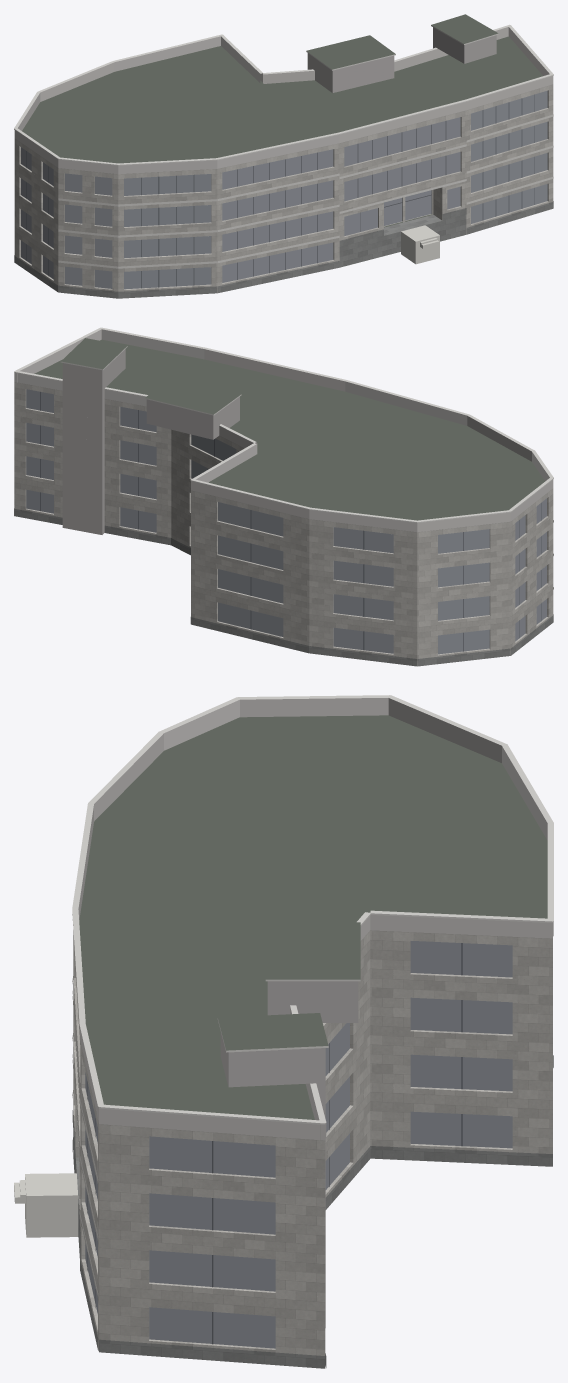
The picture shows the model from 3 angles, top to bottom: view 1: azimuth 30°, elevation 25°; view 2: azimuth 150°, elevation 25°; view 3: azimuth 270°, elevation 25°; orthographic projection. The views are drawn at different scales.
Visible parts, largest first — view 1: b941__roof, b941__wall, b941__glass, b941__parapet, b941__trim, b941__base, b941__wall2, b941__frame, b941__entranceStair; view 2: b941__wall, b941__roof, b941__glass, b941__parapet, b941__wall2, b941__base, b941__trim, b941__frame; view 3: b941__roof, b941__wall, b941__glass, b941__parapet, b941__trim, b941__wall2, b941__base, b941__entranceStair.
Boxes of the visible parts, <box> form: b941__roof: <box>22,14,542,267</box>; b941__wall: <box>14,84,553,292</box>; b941__glass: <box>21,90,547,289</box>; b941__parapet: <box>14,27,553,174</box>; b941__trim: <box>14,24,553,268</box>; b941__base: <box>14,201,553,298</box>; b941__wall2: <box>307,27,496,92</box>; b941__frame: <box>26,94,534,288</box>; b941__entranceStair: <box>401,225,439,264</box>; b941__wall: <box>14,382,553,665</box>; b941__roof: <box>34,338,545,520</box>; b941__glass: <box>26,389,546,654</box>; b941__parapet: <box>14,329,553,532</box>; b941__wall2: <box>62,349,239,534</box>; b941__base: <box>14,508,553,666</box>; b941__trim: <box>14,327,553,589</box>; b941__frame: <box>40,392,541,651</box>; b941__roof: <box>79,715,547,1160</box>; b941__wall: <box>73,930,552,1355</box>; b941__glass: <box>85,941,512,1348</box>; b941__parapet: <box>78,698,553,1140</box>; b941__trim: <box>72,695,553,1296</box>; b941__wall2: <box>220,981,358,1327</box>; b941__base: <box>72,1055,553,1368</box>; b941__entranceStair: <box>14,1173,78,1237</box>.
Size of the model in its own units: 58.05 by 18.21 by 30.93.
10 materials, 2 textured.
